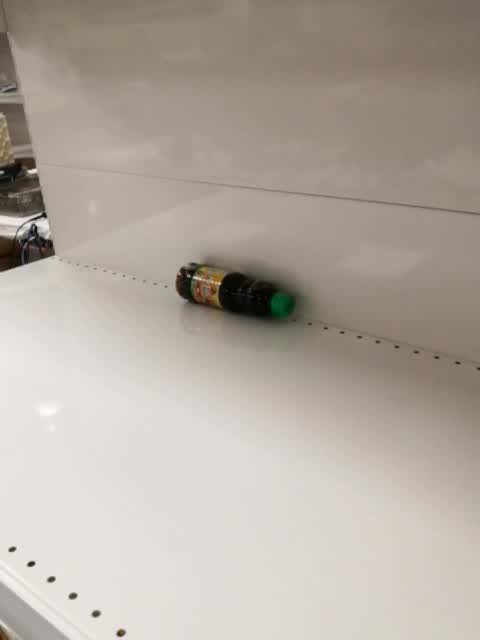cookingoil: (171, 262, 296, 321)
